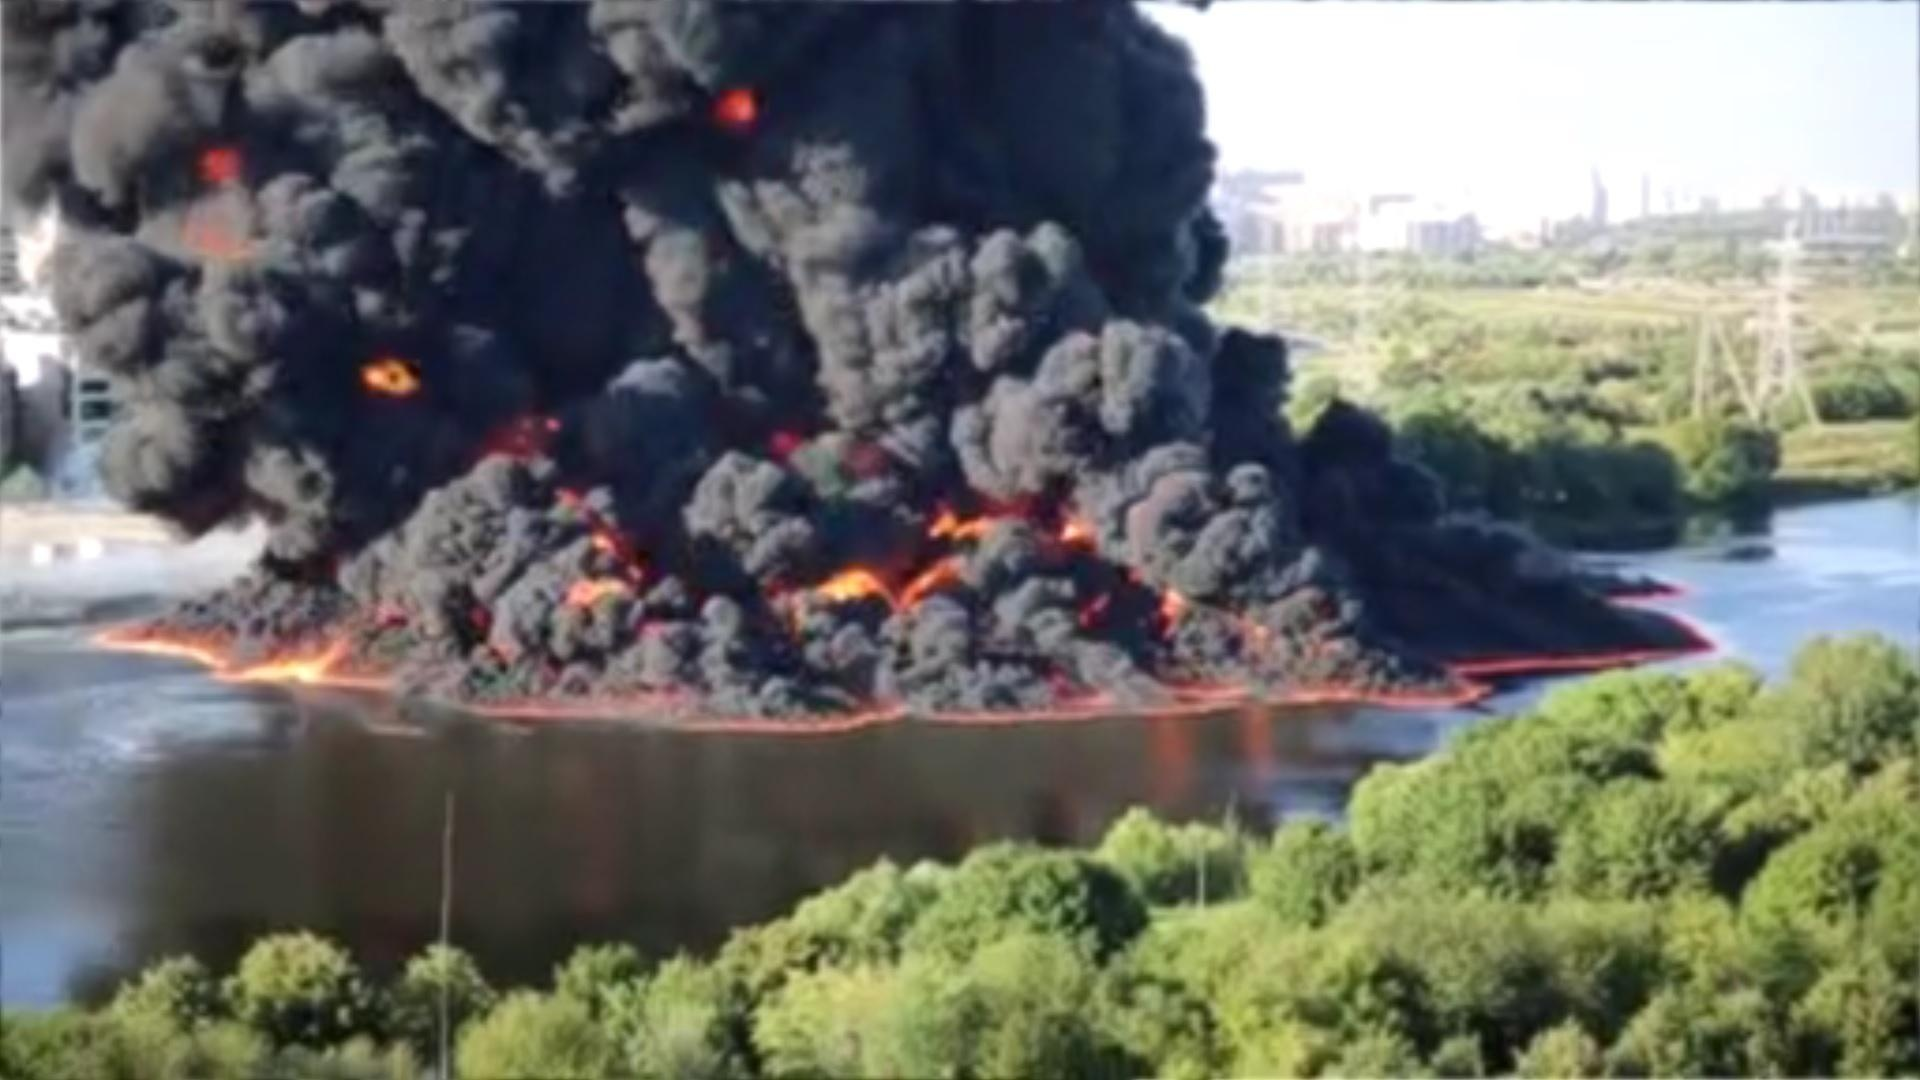fire: (100, 616, 371, 686)
